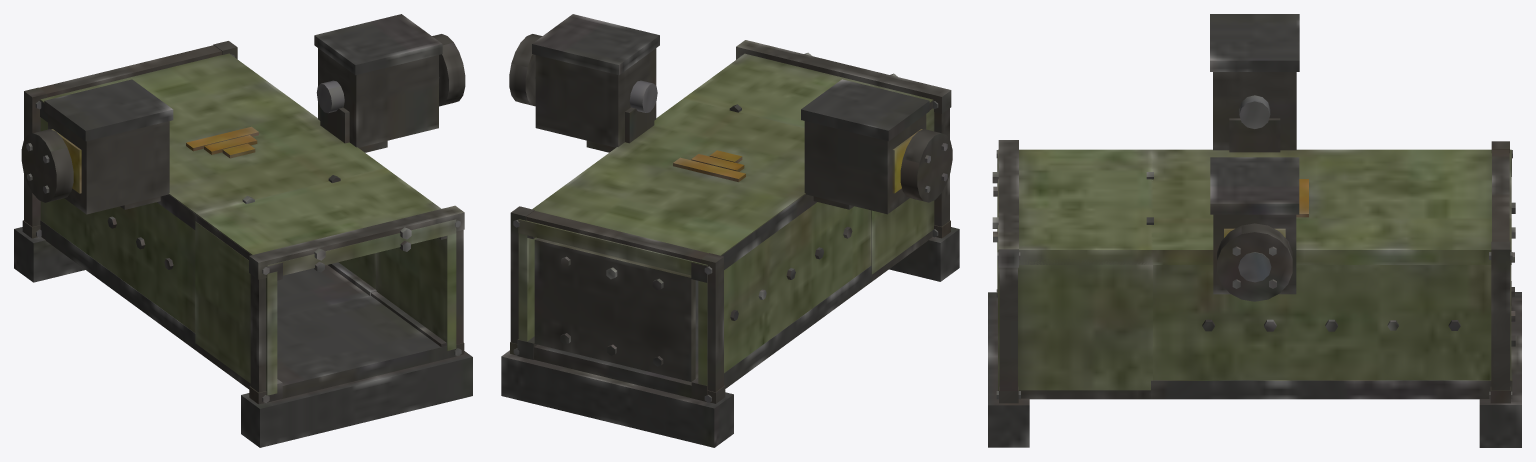
The model's file is feConveyorDuct.glb.
3 views of the same model, side by side, from view 1: azimuth 30°, elevation 25°; view 2: azimuth 150°, elevation 25°; view 3: azimuth 270°, elevation 25° (orthographic). The views are drawn at different scales.
Parts seen in each view (by area): view 1: feConveyorDuct_Base, FeDuctFront, FeDuctWall_R, FeSpin_BeltDrive, FeDuctWall_L; view 2: feConveyorDuct_Base, FeDuctCapB, FeDuctFront, FeDuctWall_R, FeSpin_BeltDrive, FeDuctWall_L; view 3: feConveyorDuct_Base, FeDuctFront, FeDuctWall_L, FeSpin_BeltDrive.
Boxes of the visible parts, <box> form: feConveyorDuct_Base: <box>14,14,442,350</box>; FeDuctFront: <box>195,168,472,447</box>; FeDuctWall_R: <box>40,117,195,332</box>; FeSpin_BeltDrive: <box>21,34,465,202</box>; FeDuctWall_L: <box>338,253,375,289</box>; feConveyorDuct_Base: <box>501,14,929,447</box>; FeDuctCapB: <box>534,238,695,381</box>; FeDuctFront: <box>683,40,959,281</box>; FeDuctWall_R: <box>698,202,871,385</box>; FeSpin_BeltDrive: <box>509,34,952,202</box>; FeDuctWall_L: <box>518,233,536,341</box>; feConveyorDuct_Base: <box>1146,14,1521,447</box>; FeDuctFront: <box>988,140,1152,447</box>; FeDuctWall_L: <box>1153,265,1511,380</box>; FeSpin_BeltDrive: <box>1217,95,1292,301</box>.
Bounding box in the file's own units: 1.01 × 0.6086 × 1.04.
1 material, 1 textured.
